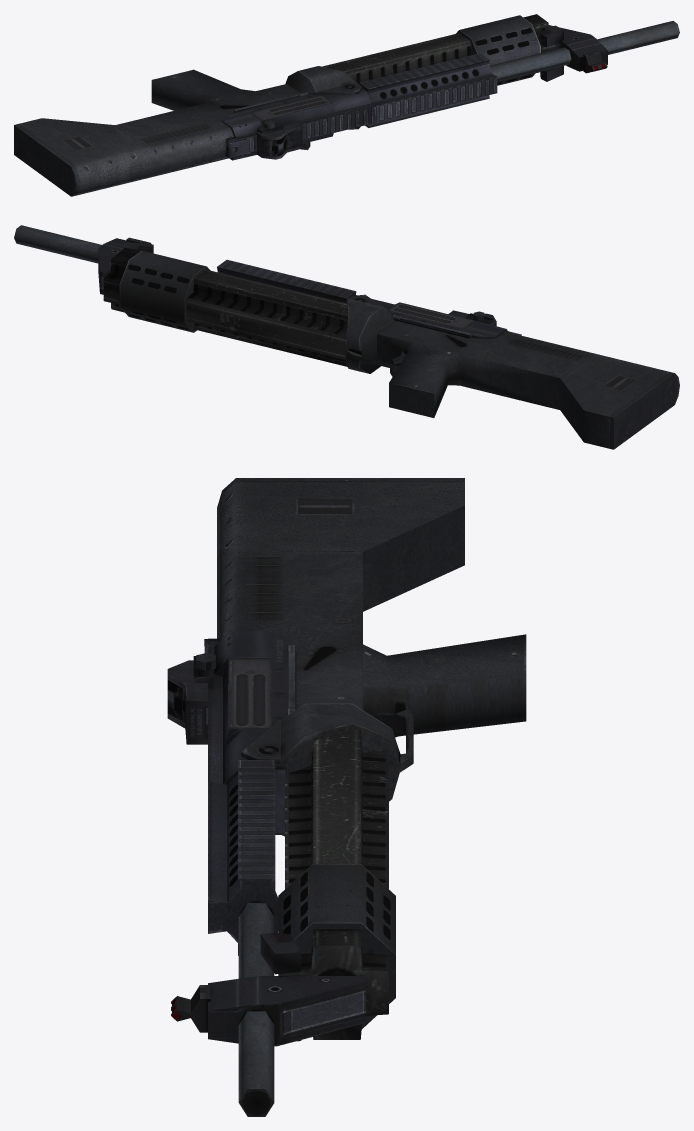
File: t6_wpn_shotty_srm1216_world_LOD1.obj
3 renders of one model, top to bottom at view 1: azimuth 30°, elevation 25°; view 2: azimuth 150°, elevation 25°; view 3: azimuth 270°, elevation 25°, orthographic. The views are drawn at different scales.
Parts seen in each view (by area): view 1: mtl_t6_wpn_shotty_srm1216_camo1, mtl_t6_wpn_shotty_srm1216_camo2, mtl_t6_wpn_shotty_srm1216_camo4, mtl_t6_wpn_shotty_srm1216_camo3; view 2: mtl_t6_wpn_shotty_srm1216_camo1, mtl_t6_wpn_shotty_srm1216_camo3, mtl_t6_wpn_shotty_srm1216_camo4, mtl_t6_wpn_shotty_srm1216_camo2; view 3: mtl_t6_wpn_shotty_srm1216_camo1, mtl_t6_wpn_shotty_srm1216_camo3, mtl_t6_wpn_shotty_srm1216_camo2, mtl_t6_wpn_shotty_srm1216_camo4.
Part boxes in pixels (bbox=[...]): mtl_t6_wpn_shotty_srm1216_camo1: bbox=[14, 15, 607, 196]; mtl_t6_wpn_shotty_srm1216_camo2: bbox=[221, 21, 679, 160]; mtl_t6_wpn_shotty_srm1216_camo4: bbox=[233, 25, 607, 153]; mtl_t6_wpn_shotty_srm1216_camo3: bbox=[322, 14, 555, 84]; mtl_t6_wpn_shotty_srm1216_camo1: bbox=[98, 237, 679, 449]; mtl_t6_wpn_shotty_srm1216_camo3: bbox=[103, 249, 348, 366]; mtl_t6_wpn_shotty_srm1216_camo4: bbox=[98, 242, 484, 376]; mtl_t6_wpn_shotty_srm1216_camo2: bbox=[14, 225, 508, 338]; mtl_t6_wpn_shotty_srm1216_camo1: bbox=[171, 478, 526, 1046]; mtl_t6_wpn_shotty_srm1216_camo3: bbox=[285, 729, 388, 1039]; mtl_t6_wpn_shotty_srm1216_camo2: bbox=[167, 630, 287, 1116]; mtl_t6_wpn_shotty_srm1216_camo4: bbox=[196, 645, 365, 1046].
Size of the model in its own units: 84.16 by 8.41 by 21.44.
